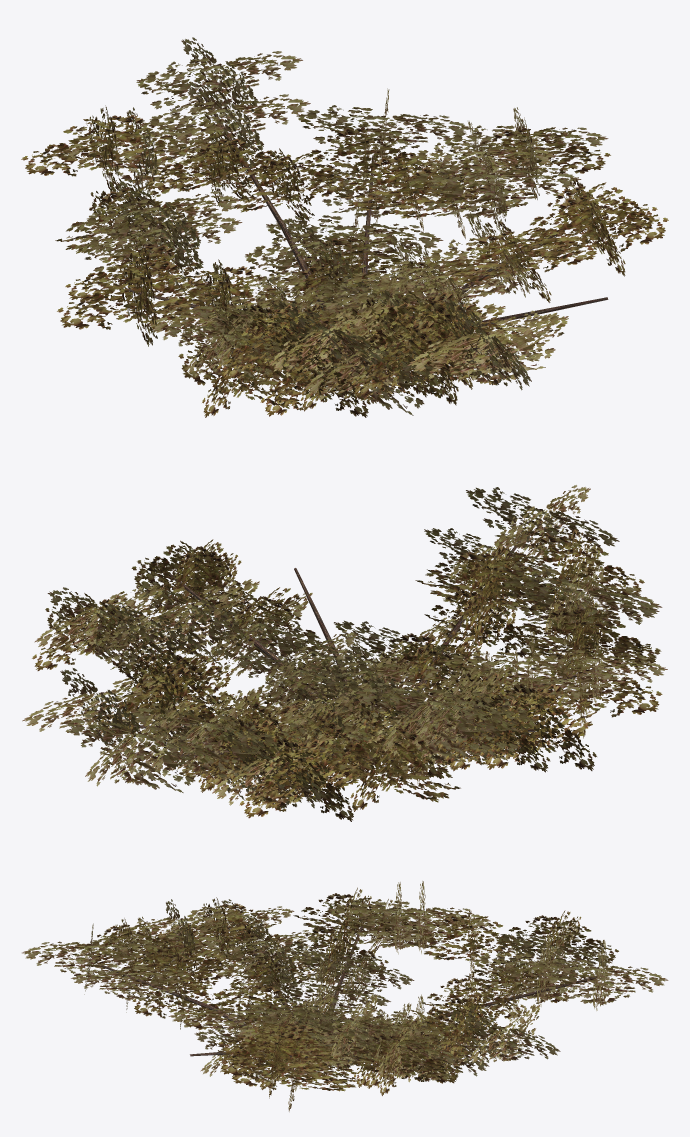
File: bush_3d_04_golden_beige_lod1.glb
3 renders of one model, top to bottom at view 1: azimuth 30°, elevation 25°; view 2: azimuth 150°, elevation 25°; view 3: azimuth 270°, elevation 25°, orthographic. The views are drawn at different scales.
Visible parts, largest first — view 1: foliage_cards, wood_geometry; view 2: foliage_cards, wood_geometry; view 3: foliage_cards, wood_geometry.
Boxes of the visible parts, bbox=[...] form: foliage_cards: bbox=[21, 37, 668, 417]; wood_geometry: bbox=[127, 88, 608, 374]; foliage_cards: bbox=[22, 485, 667, 821]; wood_geometry: bbox=[128, 533, 605, 764]; foliage_cards: bbox=[22, 881, 668, 1111]; wood_geometry: bbox=[101, 922, 596, 1066].
Size of the model in its own units: 2.74 by 0.816 by 3.7.
2 materials, 2 textured.
